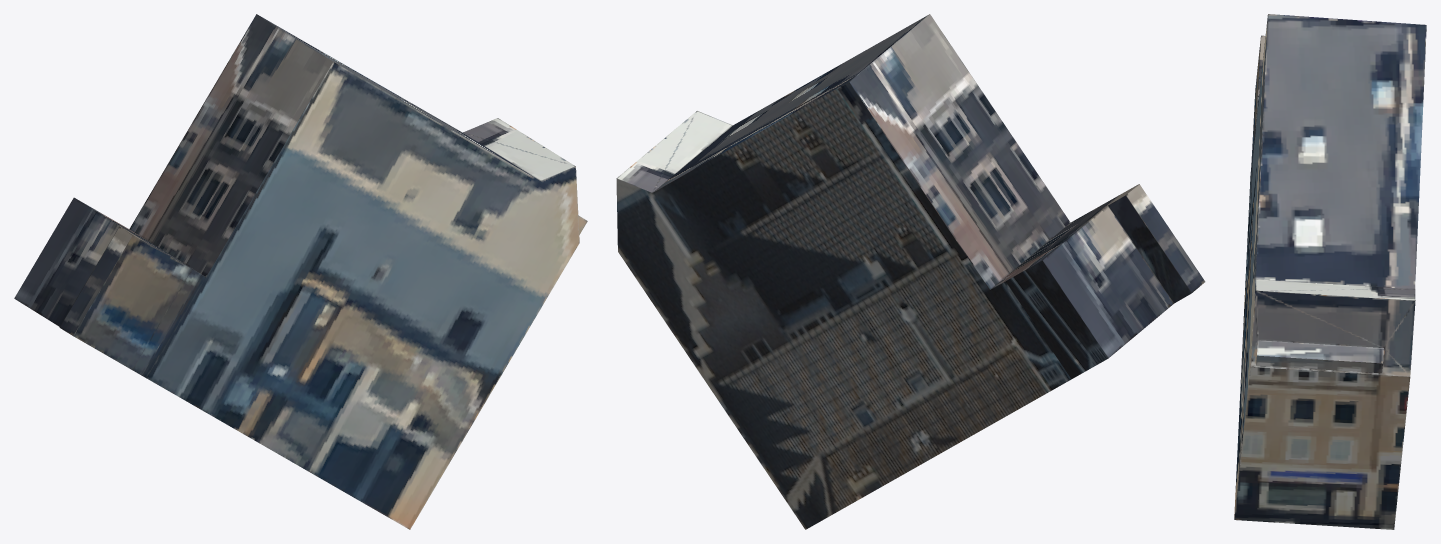
The picture shows the model from 3 angles, left to right: view 1: azimuth 30°, elevation 25°; view 2: azimuth 150°, elevation 25°; view 3: azimuth 270°, elevation 25°; orthographic projection.
Parts seen in each view (by area): view 1: BAG_0599100000671684 (×5); view 2: BAG_0599100000671684 (×5); view 3: BAG_0599100000671684 (×5).
Part boxes in pixels (x1,y1,x2,y2): BAG_0599100000671684 (×5): (14, 14, 587, 529); BAG_0599100000671684 (×5): (616, 14, 1205, 529); BAG_0599100000671684 (×5): (1234, 14, 1426, 529).
Size of the model in its own units: 24.19 by 21.49 by 7.72.
Materials: 2 (1 with a texture image).
